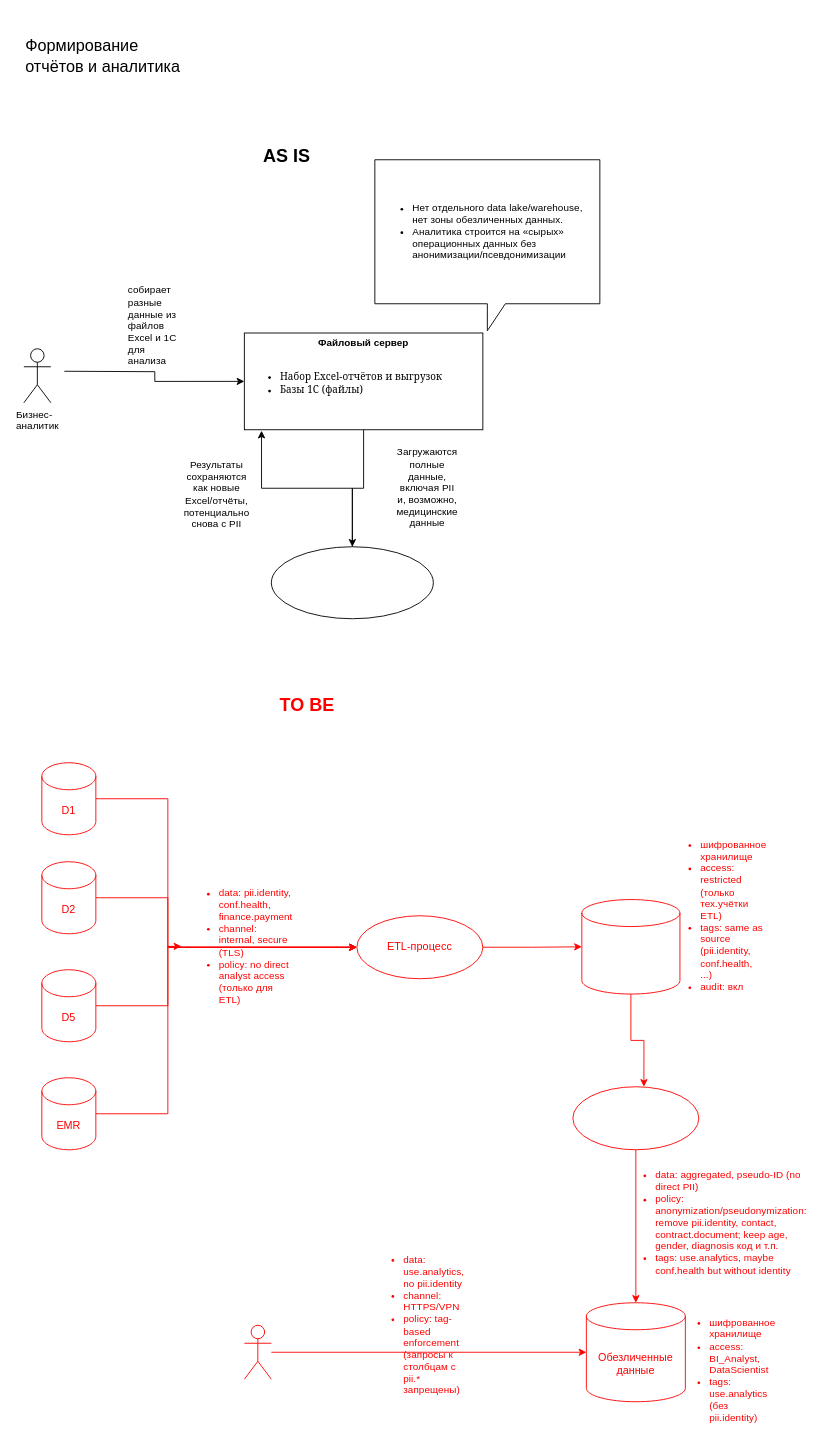
The diagram is 822 pixels wide and 1449 high, and some of its shapes have lost their labels. Here are the shapes that lost their labels. From the top down, the centre of each, then its label:
At (351,582): "Подготовка аналитики (Jupyter)".
At (630,946): "Data Lake (raw)".
At (635,1118): "ETL (обезличивание)".
At (257,1351): "Аналитик с Jupyter/BI".
